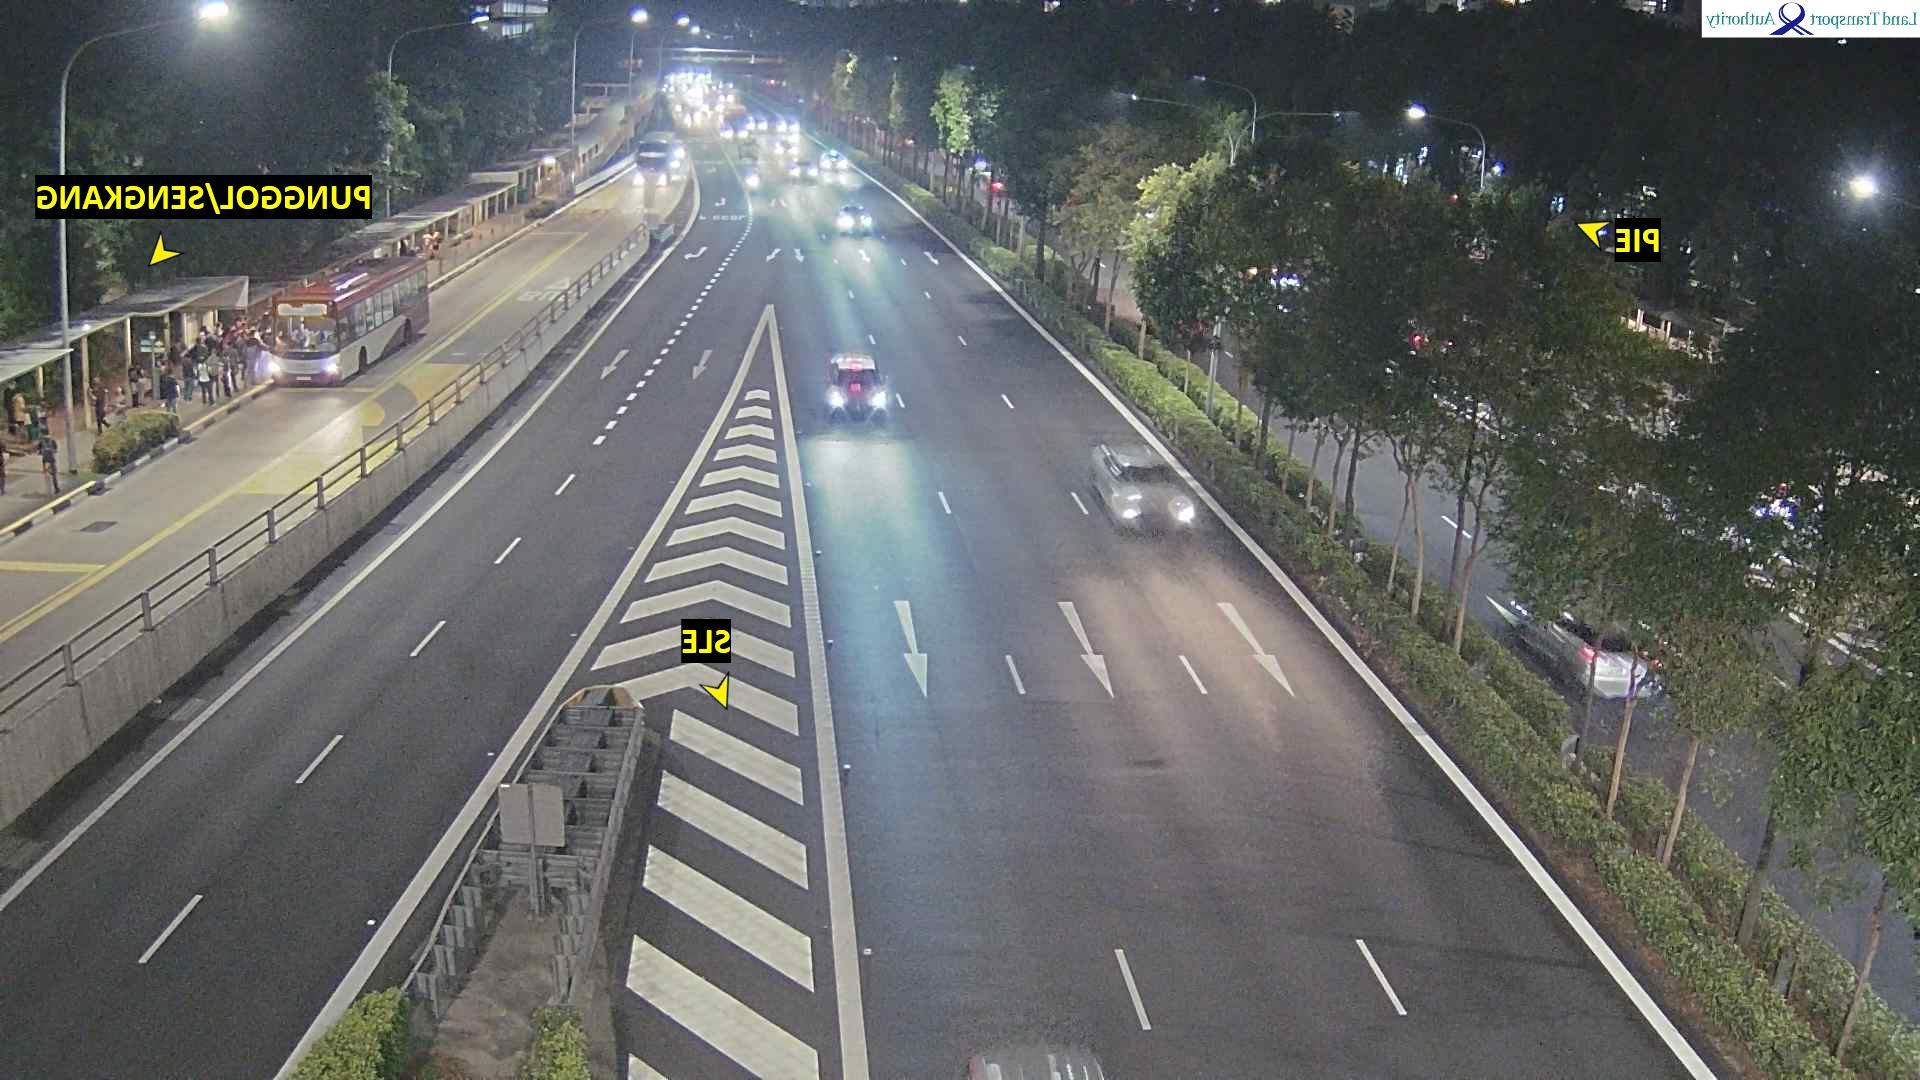incoming: (264, 299, 339, 394), (1102, 467, 1195, 542), (814, 365, 893, 422), (630, 136, 671, 189), (837, 204, 876, 237), (716, 108, 749, 140), (820, 152, 849, 173), (790, 161, 816, 183), (775, 117, 799, 138), (773, 140, 796, 158)
